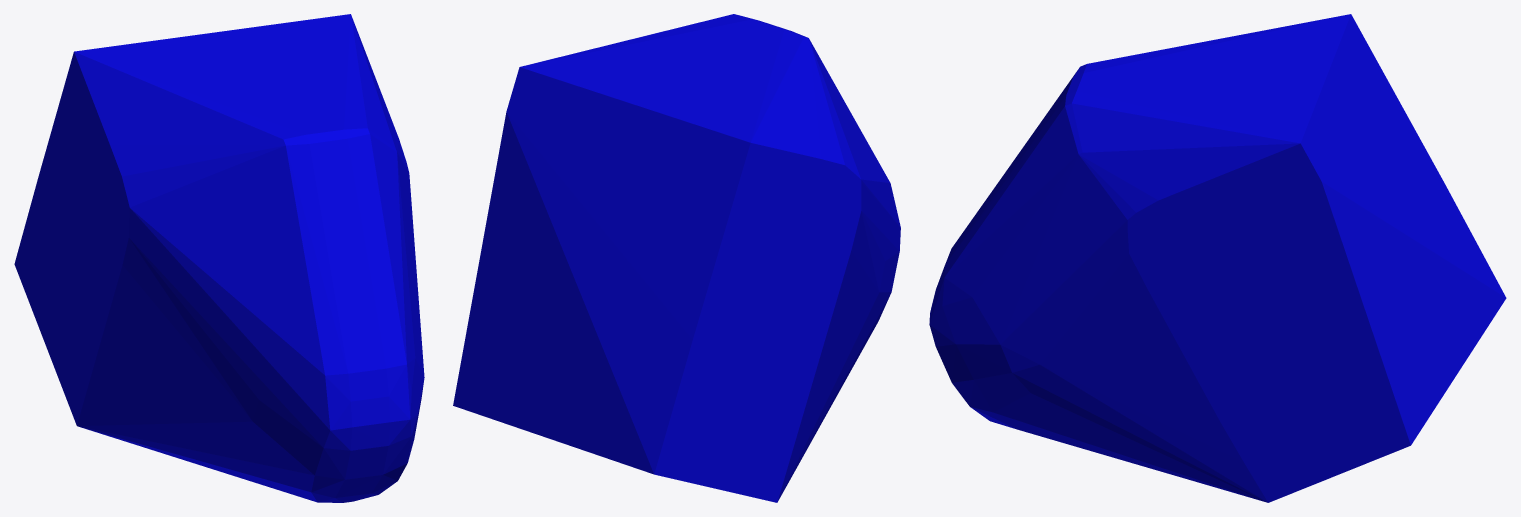
Rendered from converted_Downdraft_Assy_collision_26_0202e4ff.obj.
3 views of the same model, side by side, from view 1: azimuth 30°, elevation 25°; view 2: azimuth 150°, elevation 25°; view 3: azimuth 270°, elevation 25° (orthographic).
Bounding box in the file's own units: 0.1242 × 0.1511 × 0.213.
